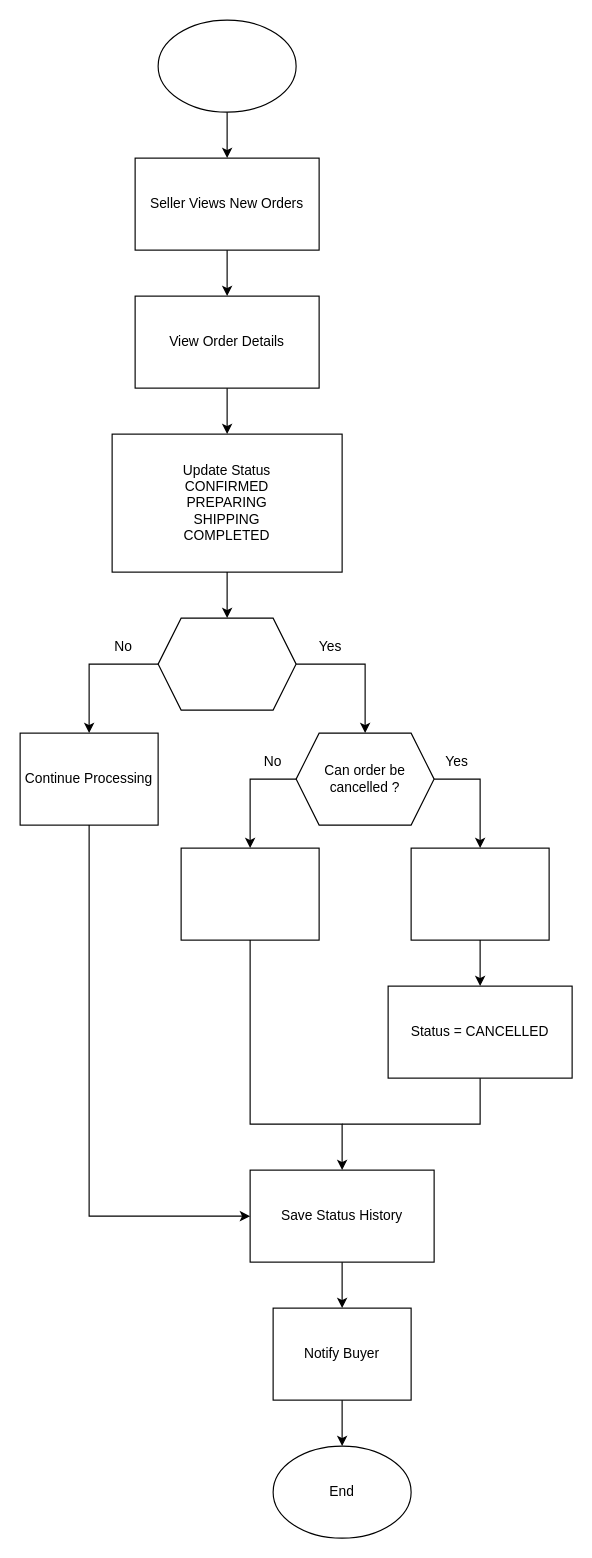
The diagram is 592 pixels wide and 1558 high, and some of its shapes have lost their labels. Each missing label, with the box of its shape:
Buyer requests cancellation ?: (157, 617, 296, 710)
Reject Cancellation: (180, 847, 319, 940)
Restore Inventory: (410, 847, 549, 940)
Start: (157, 19, 296, 112)
